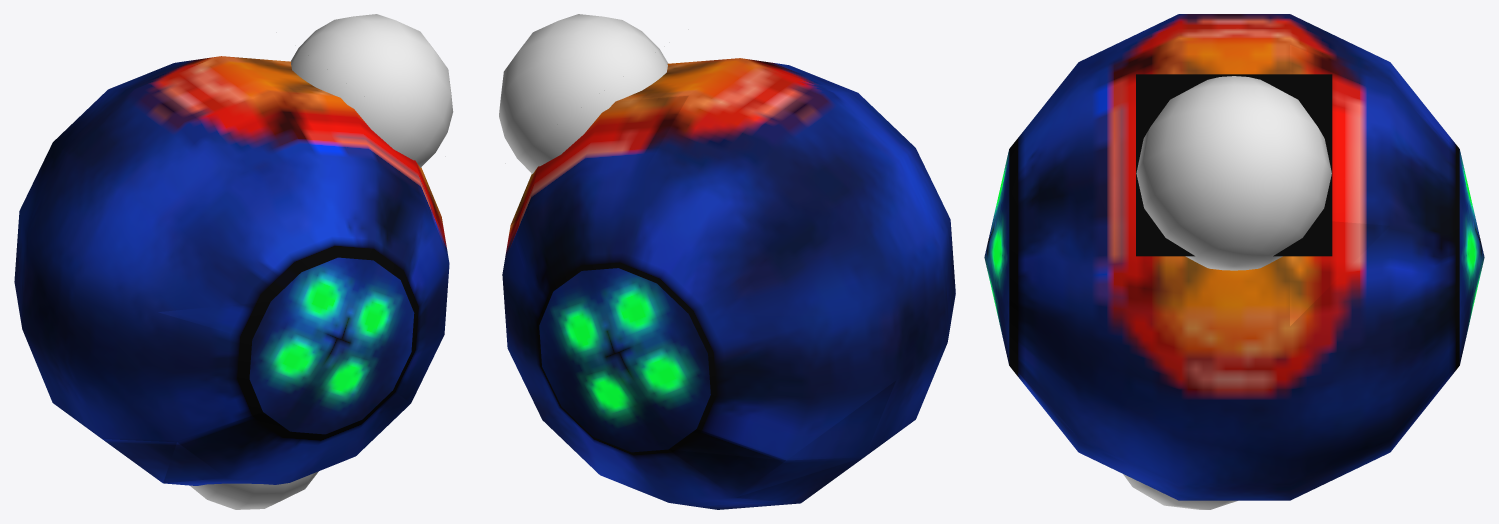
Rendered from Plasma Grenade.DAE.
The picture shows the model from 3 angles, left to right: view 1: azimuth 30°, elevation 25°; view 2: azimuth 150°, elevation 25°; view 3: azimuth 270°, elevation 25°; orthographic projection. The views are drawn at different scales.
Visible parts, largest first — view 1: default_default1, light, ground_point; view 2: default_default1, light; view 3: default_default1, light, ground_point.
Boxes of the visible parts, x1,y1,x2,y2 form: default_default1: [14, 56, 449, 485]; light: [290, 14, 453, 167]; ground_point: [190, 471, 318, 509]; default_default1: [502, 58, 955, 509]; light: [499, 14, 668, 173]; default_default1: [984, 14, 1484, 500]; light: [1136, 76, 1331, 270]; ground_point: [1123, 474, 1237, 509].
Size of the model in its own units: 5.25 by 5.53 by 5.1.
